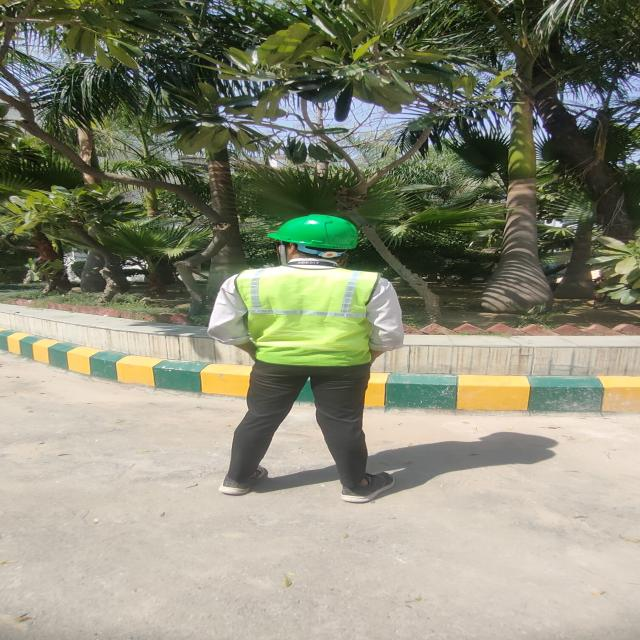safe: (212, 214, 403, 502)
